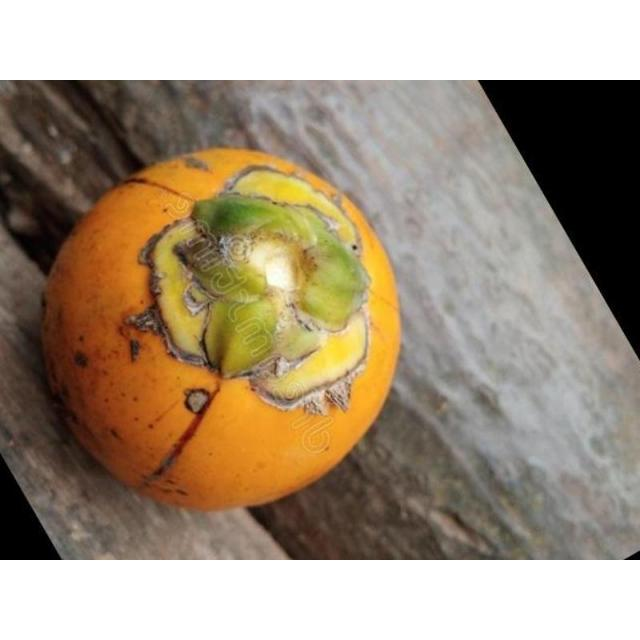good: (39, 148, 402, 515)
